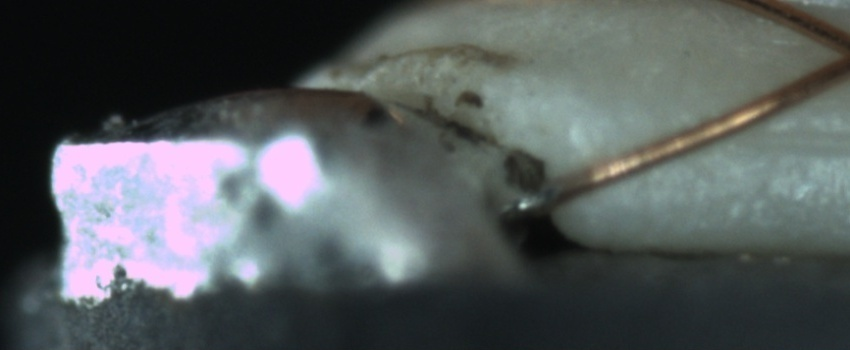DL: (701, 104, 848, 172)
